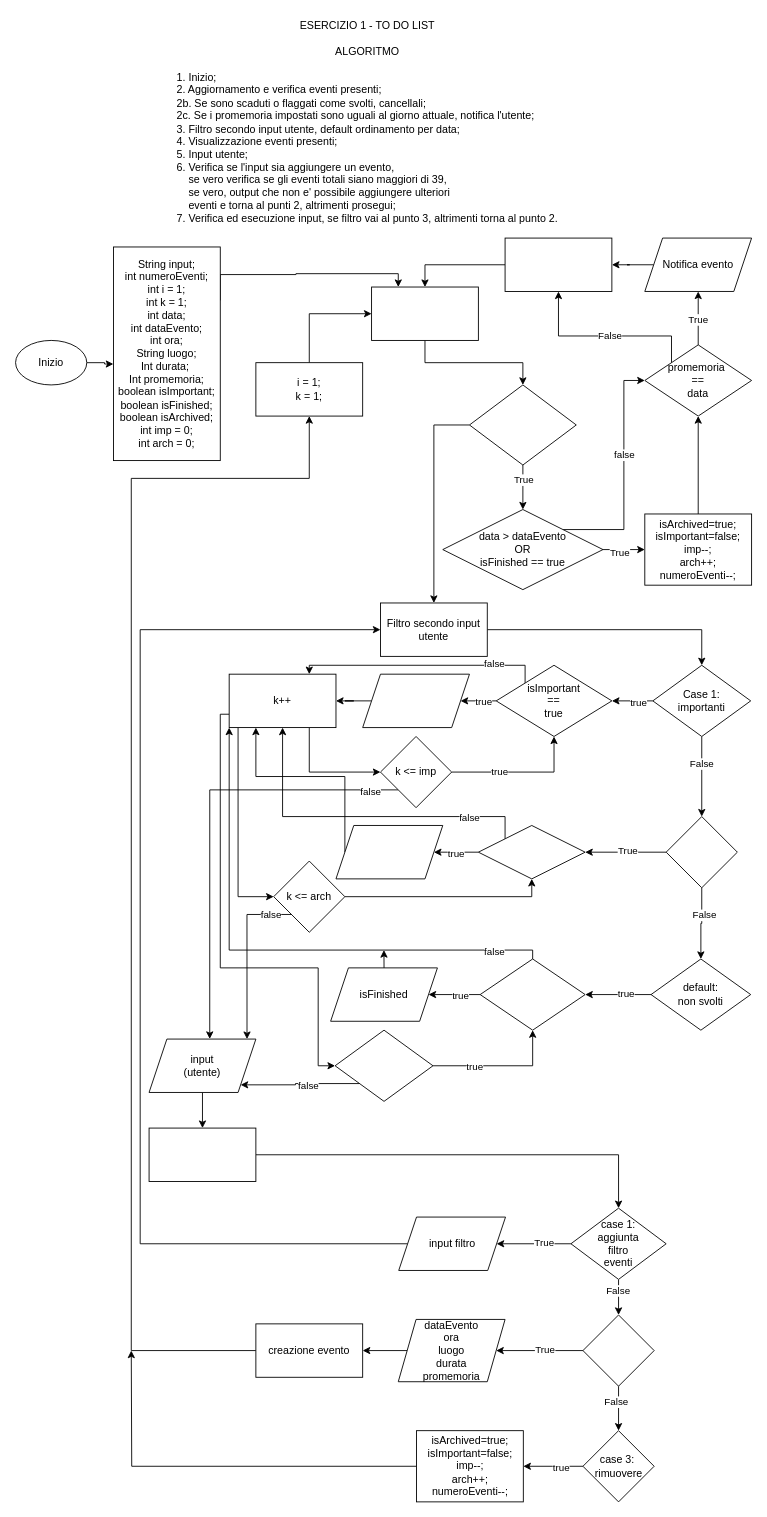
Some shapes in this 767 by 1517 pixel diagram are drawn without their labels. The centre of each missing label's shape, as x and y in pixels:
"Aggiornamento e verifica eventi presenti (loop)" goes at (x=424, y=313).
"case 2: aggiungere" goes at (x=618, y=1350).
"Case 2: archiviati" goes at (x=701, y=852).
"i <= numeroEventi" goes at (x=522, y=424).
"i++;" goes at (x=558, y=264).
"input" goes at (x=202, y=1154).
"isArchived" goes at (x=389, y=852).
"isArchived == true" goes at (x=531, y=852).
"isFinished == false" goes at (x=532, y=994).
"isImportant" goes at (x=415, y=700).
"k <= numeroEventi" goes at (x=383, y=1065).
